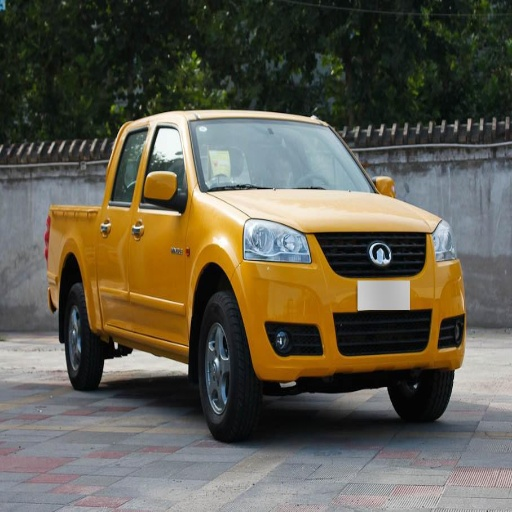front_bumper: (237, 232, 464, 382)
front_right_door: (128, 120, 188, 340)
front_right_light: (243, 220, 312, 264)
trunk: (34, 206, 90, 300)
